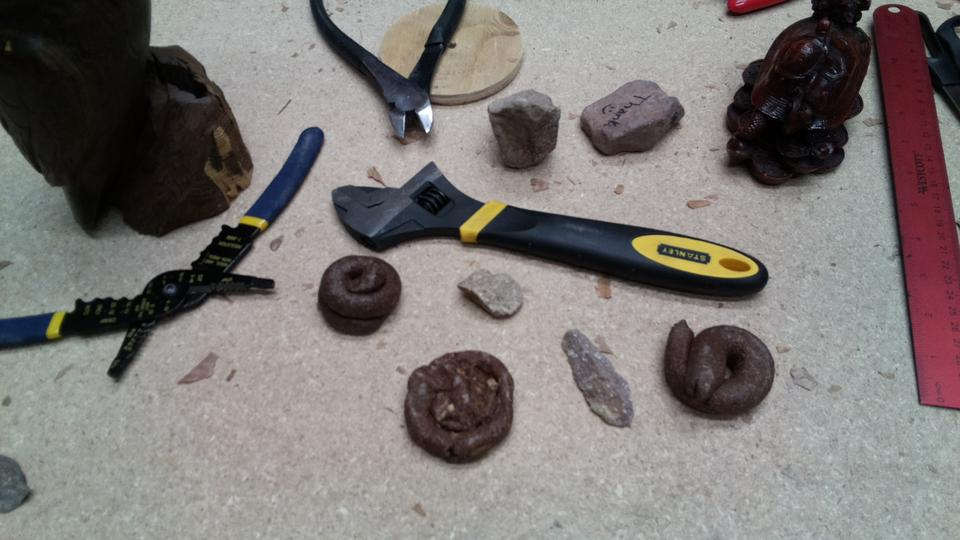poop: (401, 345, 517, 467), (661, 313, 779, 420), (314, 250, 404, 338)
